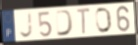5: (37, 10, 54, 38)
6: (116, 5, 131, 33)
D: (55, 9, 75, 37)
J: (18, 11, 34, 39)
O: (95, 6, 114, 34)
T: (76, 7, 92, 36)
